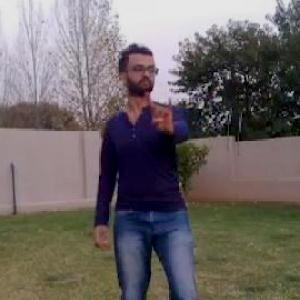takeoff-hand: (141, 88, 182, 132)
